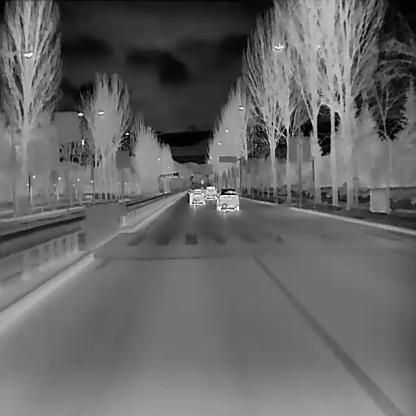car: (215, 187, 239, 210), (188, 187, 206, 205), (204, 185, 217, 199)
